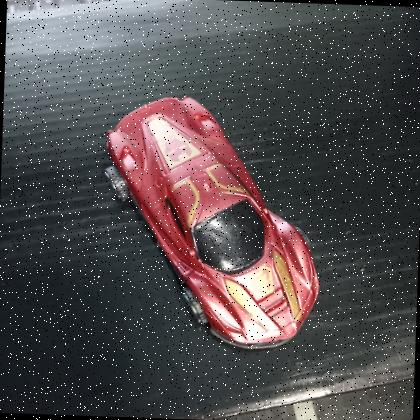Car: (92, 88, 330, 356)
